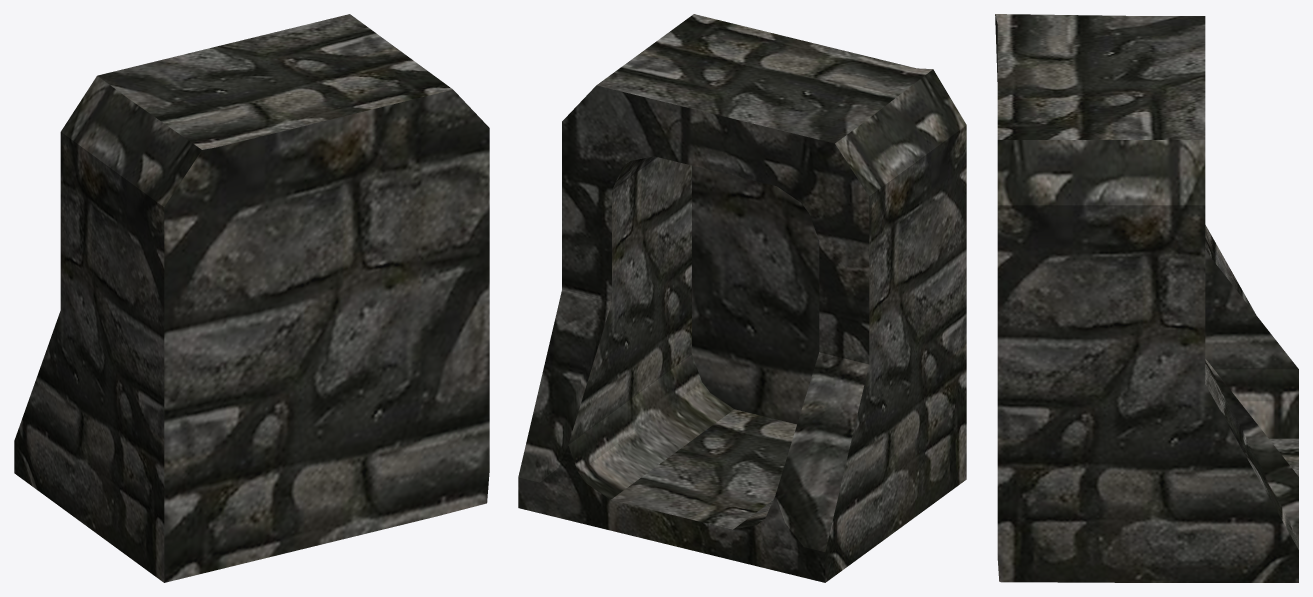
File: Cave.fbx
3 views of the same model, side by side, from view 1: azimuth 30°, elevation 25°; view 2: azimuth 150°, elevation 25°; view 3: azimuth 270°, elevation 25° (orthographic). The views are drawn at different scales.
Visible parts, largest first — view 1: Cube.042; view 2: Cube.042; view 3: Cube.042.
Boxes of the visible parts, x1,y1,x2,y2 form: Cube.042: [14, 14, 489, 582]; Cube.042: [518, 14, 966, 582]; Cube.042: [995, 14, 1298, 582].
Bounding box in the file's own units: 543 × 677 × 436.
Materials: 1 (1 with a texture image).
